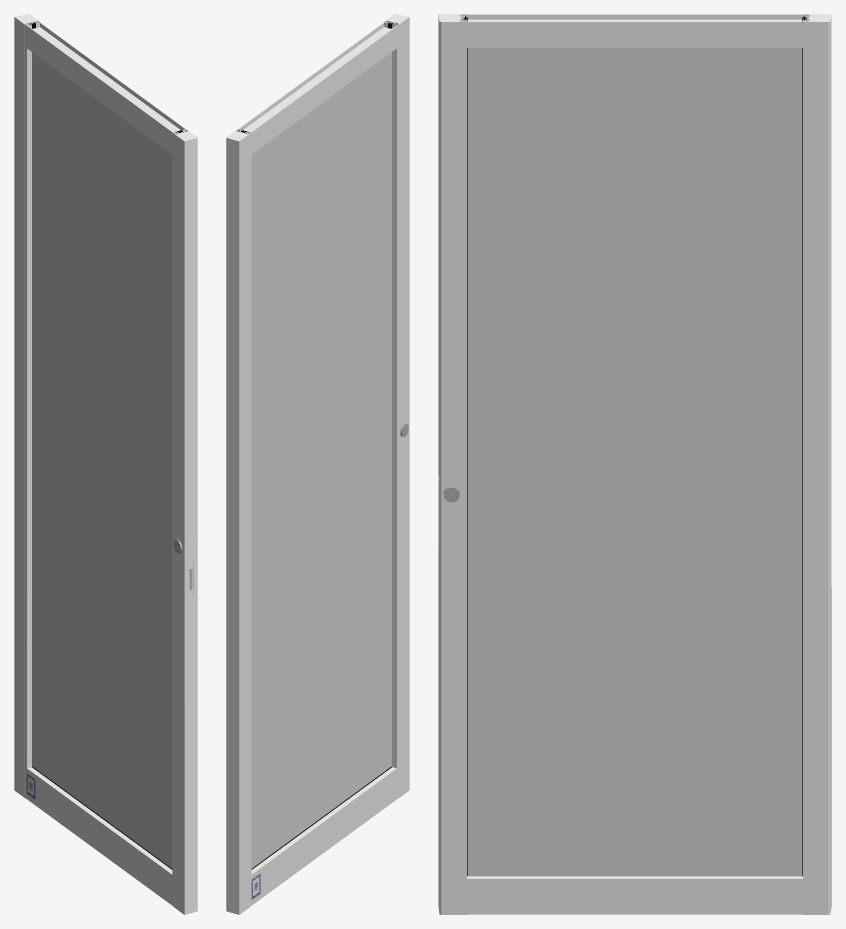
File: D200_Slab_WT.glb
The picture shows the model from 3 angles, left to right: view 1: azimuth 30°, elevation 25°; view 2: azimuth 150°, elevation 25°; view 3: azimuth 270°, elevation 25°; orthographic projection. The views are drawn at different scales.
Parts seen in each view (by area): view 1: Cube.001, PROFILE_curve_.020, D200, PROFILE_curve_.012, PROFILE_curve_.015, Cube.009; view 2: Cube.001, D200, PROFILE_curve_.020, PROFILE_curve_.012, PROFILE_curve_.015; view 3: Cube.001, D200, PROFILE_curve_.020, PROFILE_curve_.015, PROFILE_curve_.012, rubber_curve_.015, rubber_curve_.013.
Boxes of the visible parts, x1,y1,x2,y2 form: Cube.001: [32, 52, 172, 868]; PROFILE_curve_.020: [172, 129, 197, 914]; D200: [14, 14, 40, 798]; PROFILE_curve_.012: [27, 22, 185, 154]; PROFILE_curve_.015: [27, 767, 172, 905]; Cube.009: [187, 536, 195, 597]; Cube.001: [251, 52, 391, 868]; D200: [226, 129, 251, 914]; PROFILE_curve_.020: [383, 14, 409, 798]; PROFILE_curve_.012: [238, 22, 396, 154]; PROFILE_curve_.015: [251, 767, 396, 905]; Cube.001: [467, 48, 802, 876]; D200: [803, 14, 831, 914]; PROFILE_curve_.020: [438, 14, 466, 914]; PROFILE_curve_.015: [467, 876, 802, 914]; PROFILE_curve_.012: [467, 14, 802, 47]; rubber_curve_.015: [802, 18, 806, 876]; rubber_curve_.013: [464, 18, 467, 876].
Bounding box in the file's own units: 0.054 × 2.29 × 0.9144.
Materials: 7 (1 with a texture image).
